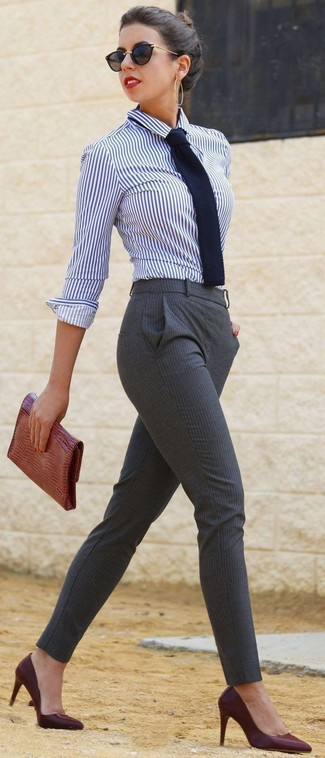glasses: (100, 42, 163, 73)
tie: (157, 123, 234, 289)
